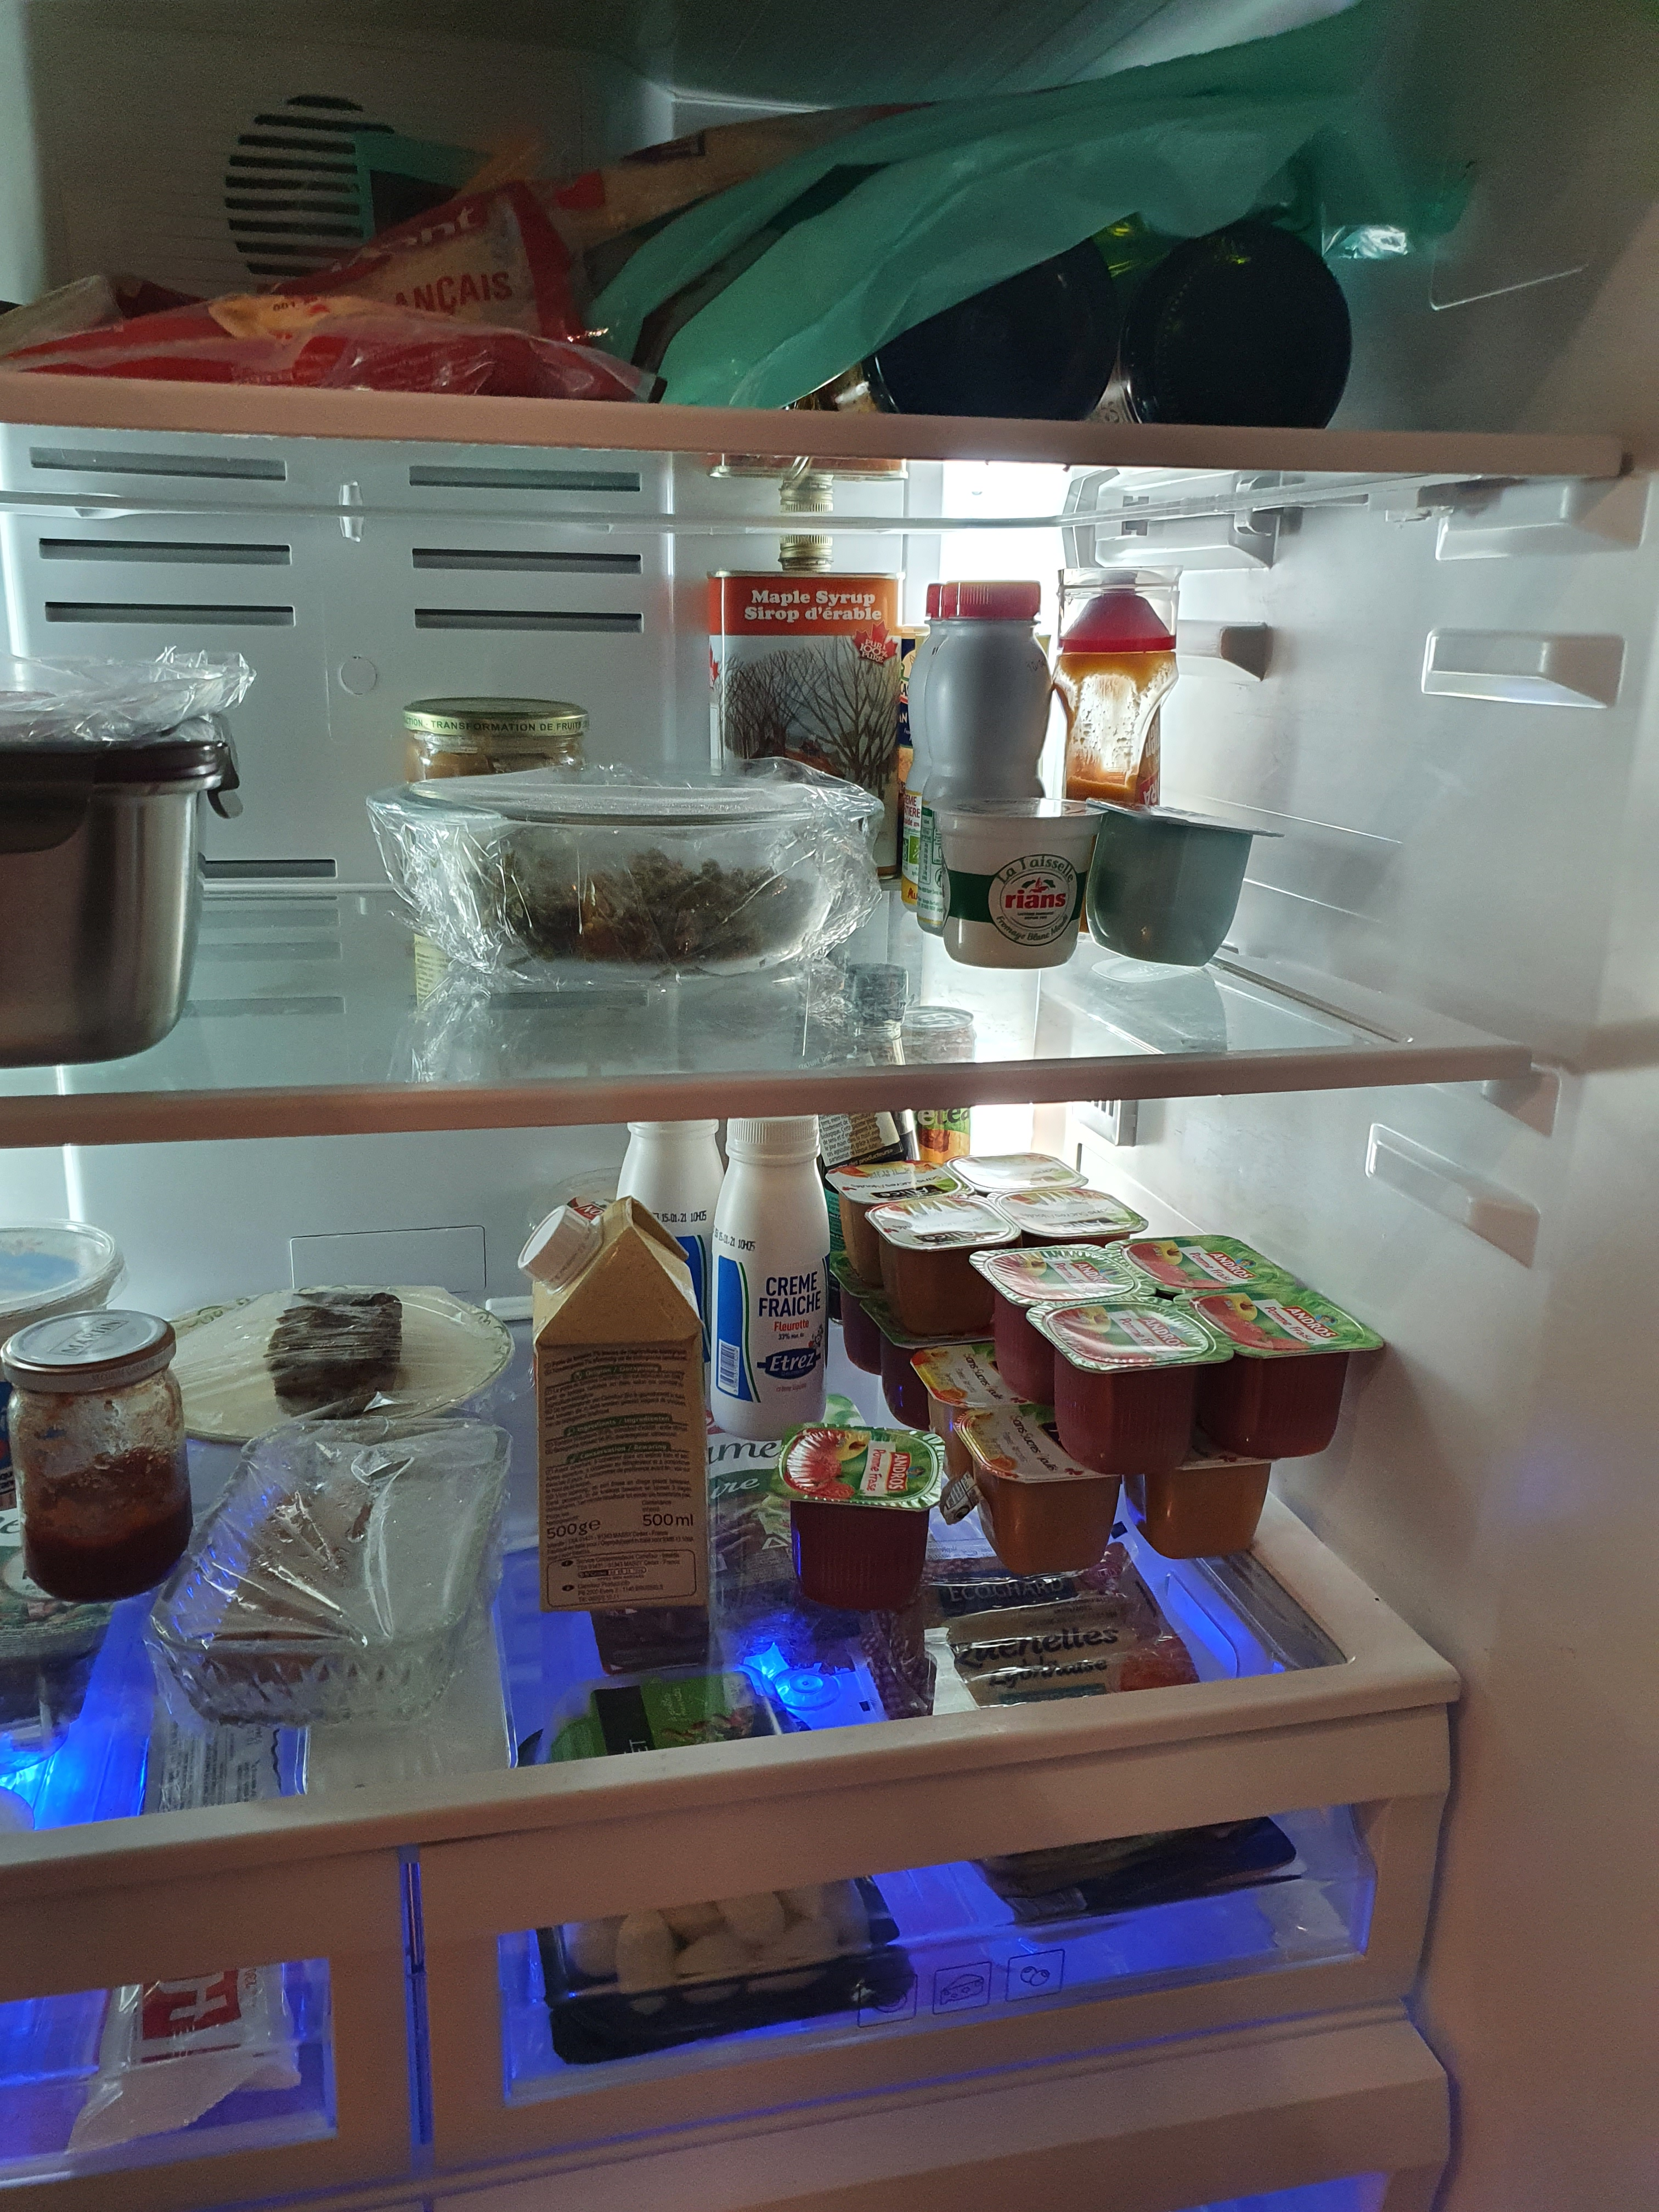bottle: (924, 575, 1056, 934), (720, 1122, 821, 1428), (620, 1115, 727, 1400)
compote: (1086, 798, 1281, 974), (1185, 1284, 1354, 1463), (1039, 1298, 1215, 1465), (969, 1245, 1161, 1397), (962, 1409, 1122, 1581), (789, 1426, 939, 1609), (863, 1200, 1025, 1327), (908, 1334, 1032, 1472), (833, 1157, 967, 1273), (1131, 1453, 1267, 1561), (1100, 1233, 1304, 1303), (986, 1188, 1152, 1251), (946, 1153, 1089, 1202)
